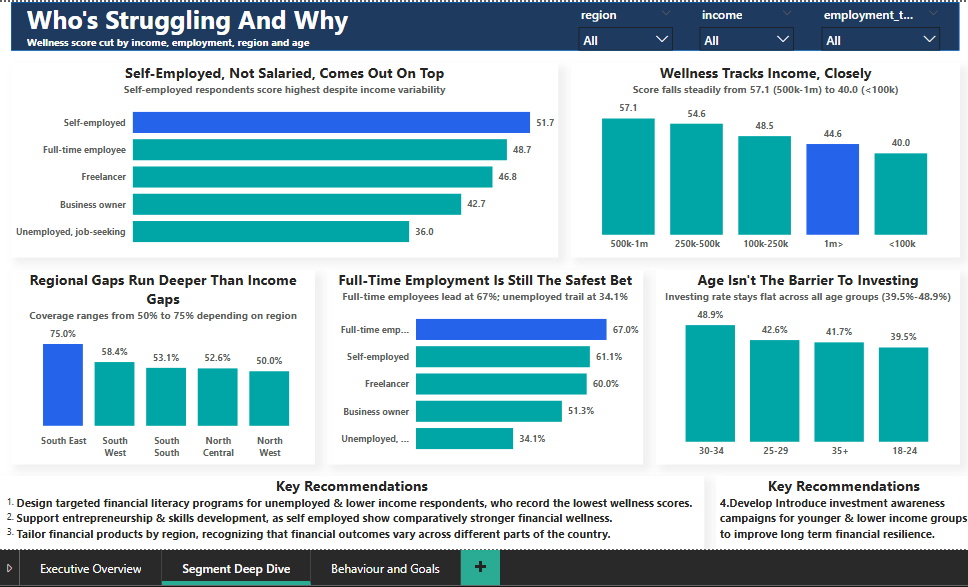

Layout of this report page (visuals, bound fields, positions):
{"tool":"powerbi","page":{"name":"Segment Deep Dive","canvas":[1280,720],"ordinal":1},"visuals":[{"type":"shape","box":[16,0,1248,64],"z":0},{"type":"columnChart","title":"Wellness Tracks Income, Closely","fields":{"Category":["survey_responses.income"],"Y":["survey_responses.Avg Wellness Score"]},"box":[752,80,512,256],"z":1000},{"type":"barChart","title":"Self-Employed, Not Salaried, Comes Out On Top","fields":{"Y":["survey_responses.Avg Wellness Score"],"Category":["survey_responses.employment_type"]},"box":[16,80,720,256],"z":2000},{"type":"clusteredBarChart","title":"Full-Time Employment Is Still The Safest Bet","fields":{"Category":["survey_responses.employment_type"],"Y":["survey_responses.% Has Emergency Fund"]},"box":[432,352,416,256],"z":3000},{"type":"columnChart","title":"Regional Gaps Run Deeper Than Income Gaps","fields":{"Y":["survey_responses.% Has Emergency Fund"],"Category":["survey_responses.region"]},"box":[16,352,400,256],"z":4000},{"type":"slicer","fields":{"Values":["survey_responses.region"]},"box":[752,0,144,64],"z":5000},{"type":"slicer","fields":{"Values":["survey_responses.income"]},"box":[912,0,144,64],"z":6000},{"type":"slicer","fields":{"Values":["survey_responses.employment_type"]},"box":[1072,0,176,64],"z":7000},{"type":"textbox","title":"Who''s Struggling And Why","box":[32,0,672,64],"z":8000},{"type":"columnChart","title":"Age Isn''t The Barrier To Investing","fields":{"Category":["survey_responses.age_range"],"Y":["survey_responses.Currently Investing"]},"box":[864,352,400,256],"z":9000},{"type":"textbox","title":"Key Recommendations","box":[0,624,928,96],"z":10000},{"type":"textbox","title":"Key Recommendations","box":[944,624,336,96],"z":11000}]}

Visuals, with their boxes on the page's 1280x720 design canvas (x1, y1, x2, y2). These are canvas units, not pixel positions in the 968x587 screenshot, which may show the page scaled, cropped or inside an application window:
shape: (left=16, top=0, right=1264, bottom=64)
"Wellness Tracks Income, Closely" columnChart: (left=752, top=80, right=1264, bottom=336)
"Self-Employed, Not Salaried, Comes Out On Top" barChart: (left=16, top=80, right=736, bottom=336)
"Full-Time Employment Is Still The Safest Bet" clusteredBarChart: (left=432, top=352, right=848, bottom=608)
"Regional Gaps Run Deeper Than Income Gaps" columnChart: (left=16, top=352, right=416, bottom=608)
slicer - survey_responses.region: (left=752, top=0, right=896, bottom=64)
slicer - survey_responses.income: (left=912, top=0, right=1056, bottom=64)
slicer - survey_responses.employment_type: (left=1072, top=0, right=1248, bottom=64)
"Who''s Struggling And Why" textbox: (left=32, top=0, right=704, bottom=64)
"Age Isn''t The Barrier To Investing" columnChart: (left=864, top=352, right=1264, bottom=608)
"Key Recommendations" textbox: (left=0, top=624, right=928, bottom=720)
"Key Recommendations" textbox: (left=944, top=624, right=1280, bottom=720)
